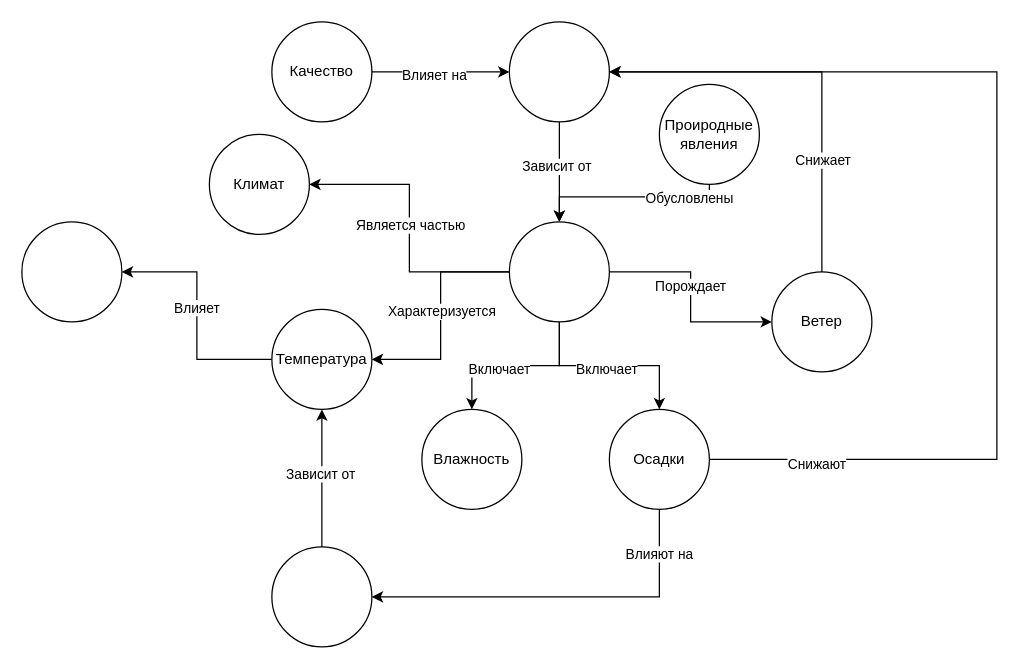
Image size: 1029x669. Some labels were removed from this diagram. The centre of each missing label's shape, as x and y in pixels:
Здоровье: point 71,271
Комфорт: point 558,71
Одежда: point 321,596
Погода: point 558,271
